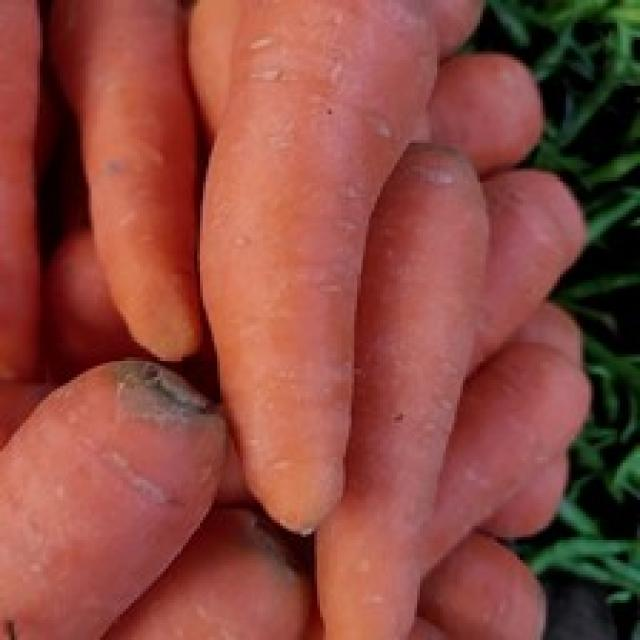Fresh_Carrot: (202, 0, 427, 537), (318, 142, 491, 640), (0, 361, 230, 640)
